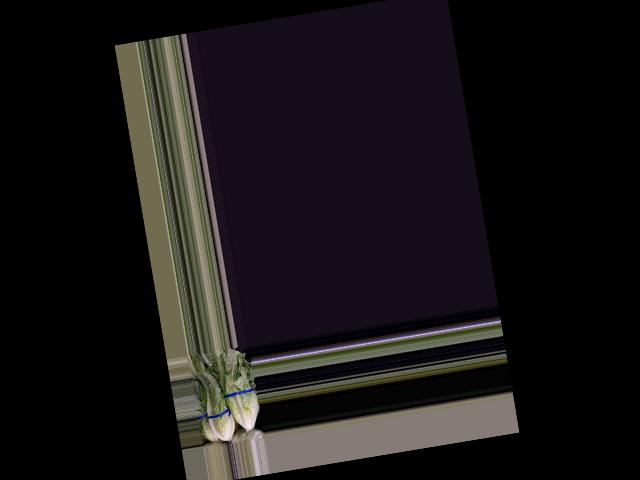lettuce: (194, 366, 237, 445)
